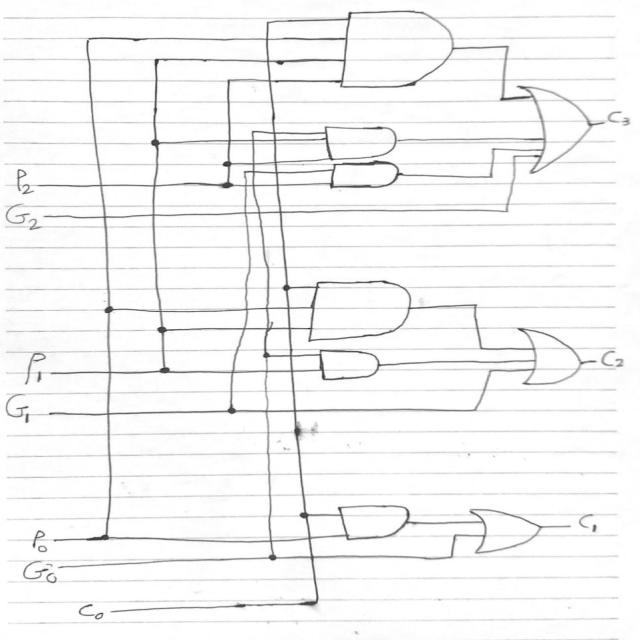AND: (336, 8, 465, 102), (303, 273, 422, 342), (331, 498, 422, 540), (305, 344, 398, 384), (318, 119, 400, 161), (318, 159, 408, 192)
OR: (509, 74, 603, 182), (499, 310, 592, 394), (471, 496, 557, 558)
